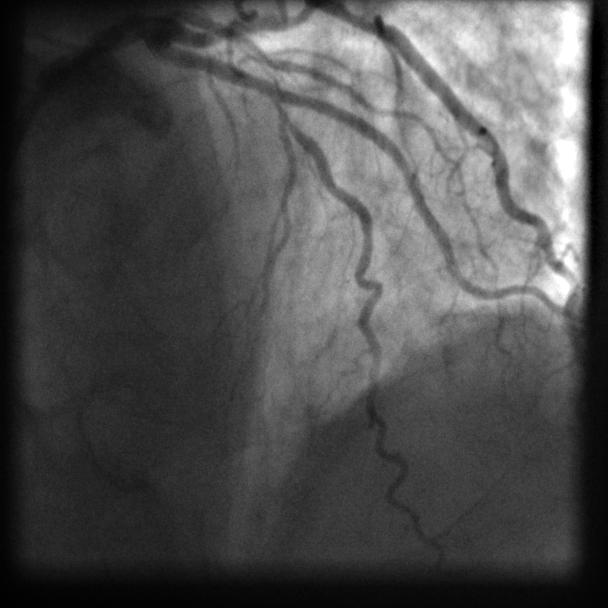Stenosis: (248, 38, 282, 96)
